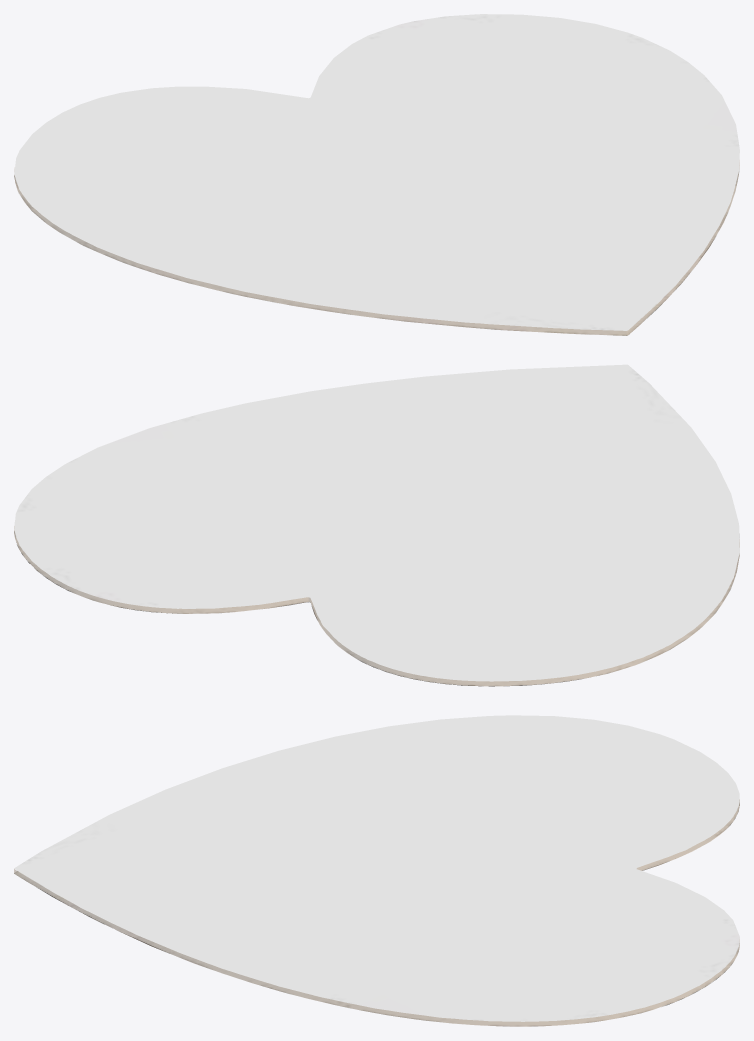
Rendered from 06 - HOLMÖARNA Mirror - heart-shaped 27x27 cm.glb.
The picture shows the model from 3 angles, top to bottom: view 1: azimuth 30°, elevation 25°; view 2: azimuth 150°, elevation 25°; view 3: azimuth 270°, elevation 25°; orthographic projection. The views are drawn at different scales.
Parts seen in each view (by area): view 1: ASY_ART_30632285_S01_NV01; view 2: ASY_ART_30632285_S01_NV01; view 3: ASY_ART_30632285_S01_NV01.
Boxes of the visible parts, x1=… form: ASY_ART_30632285_S01_NV01: x1=14, y1=14, x2=739, y2=335; ASY_ART_30632285_S01_NV01: x1=14, y1=364, x2=739, y2=686; ASY_ART_30632285_S01_NV01: x1=14, y1=715, x2=739, y2=1026.
Bounding box in the file's own units: 0.2743 × 0.0043 × 0.2745.
Materials: 2 (2 with a texture image).
